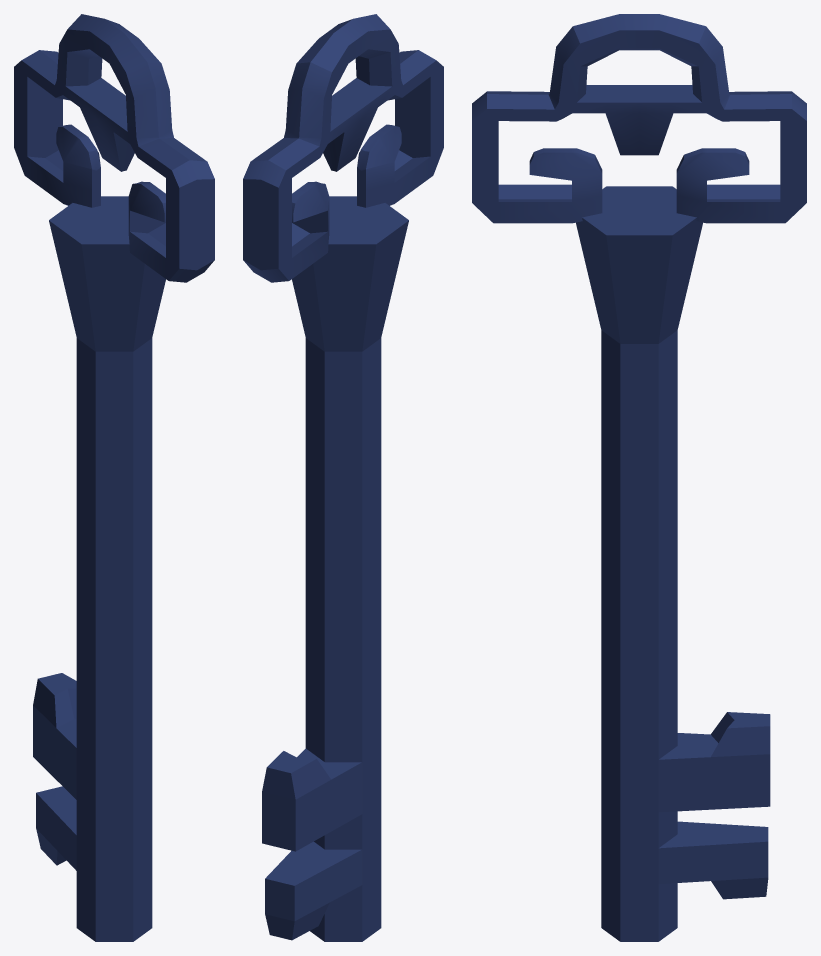
Rendered from Key1.fbx.
3 views of the same model, side by side, from view 1: azimuth 30°, elevation 25°; view 2: azimuth 150°, elevation 25°; view 3: azimuth 270°, elevation 25° (orthographic).
Parts seen in each view (by area): view 1: Cylinder, Cylinder.001; view 2: Cylinder, Cylinder.001; view 3: Cylinder, Cylinder.001.
Part boxes in pixels (bbox=[...]): Cylinder: bbox=[33, 196, 165, 941]; Cylinder.001: bbox=[14, 14, 214, 282]; Cylinder: bbox=[262, 196, 408, 941]; Cylinder.001: bbox=[243, 14, 443, 282]; Cylinder: bbox=[576, 186, 770, 941]; Cylinder.001: bbox=[472, 14, 806, 223].
Size of the model in its own units: 0.095 by 0.2757 by 0.8307.
